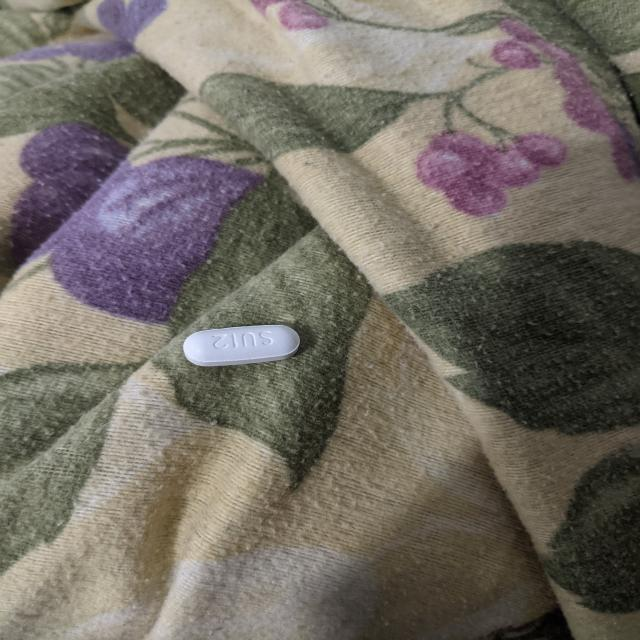non-organic waste: (182, 324, 302, 368)
